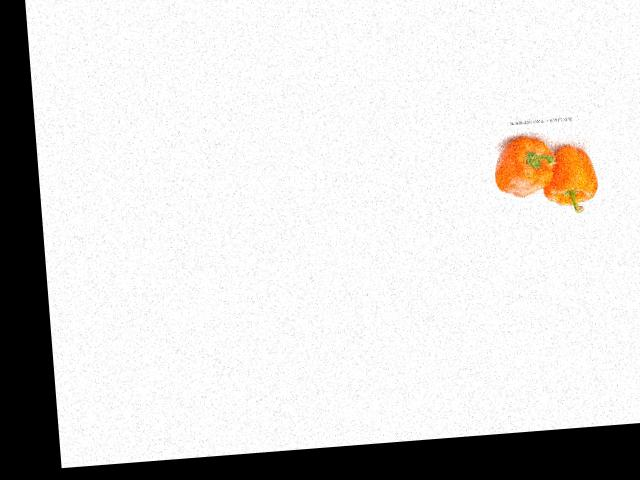bell_pepper: (489, 128, 560, 201)
